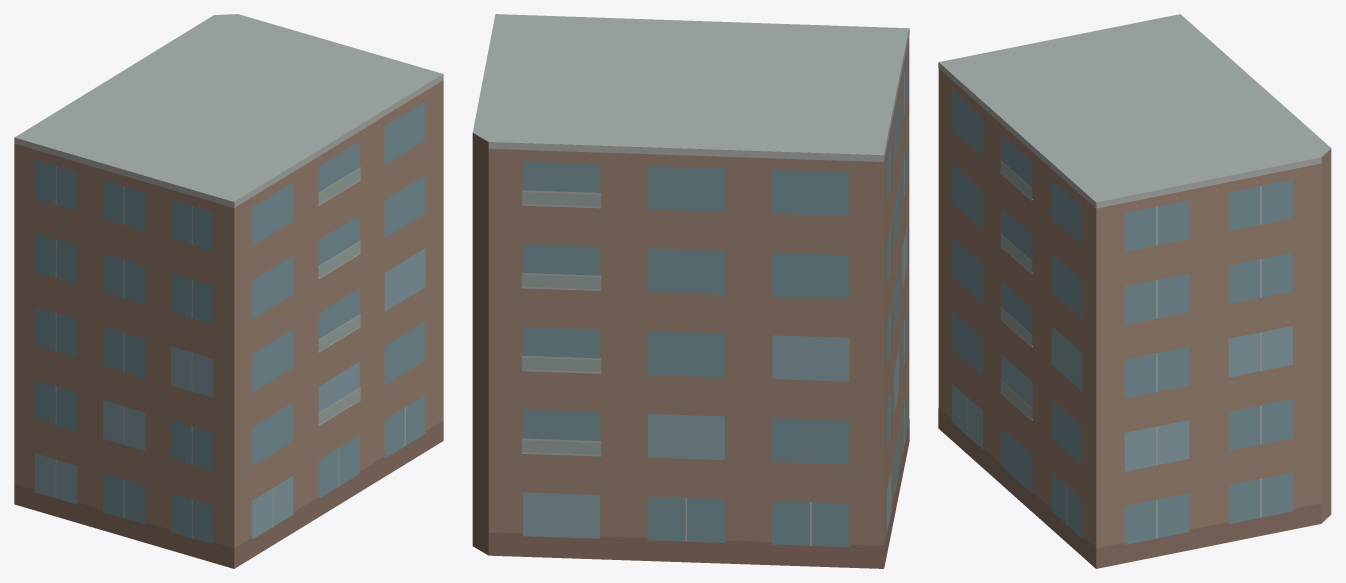
File: survey-upis-32904090.glb
3 renders of one model, left to right at view 1: azimuth 30°, elevation 25°; view 2: azimuth 150°, elevation 25°; view 3: azimuth 270°, elevation 25°, orthographic. The views are drawn at different scales.
Visible parts, largest first — view 1: survey-upis-32904090.tmp; view 2: survey-upis-32904090.tmp; view 3: survey-upis-32904090.tmp.
Boxes of the visible parts, x1,y1,x2,y2 form: survey-upis-32904090.tmp: [14, 14, 443, 568]; survey-upis-32904090.tmp: [472, 14, 909, 568]; survey-upis-32904090.tmp: [938, 14, 1331, 568].
Bounding box in the file's own units: 16.29 × 14.75 × 14.34.
